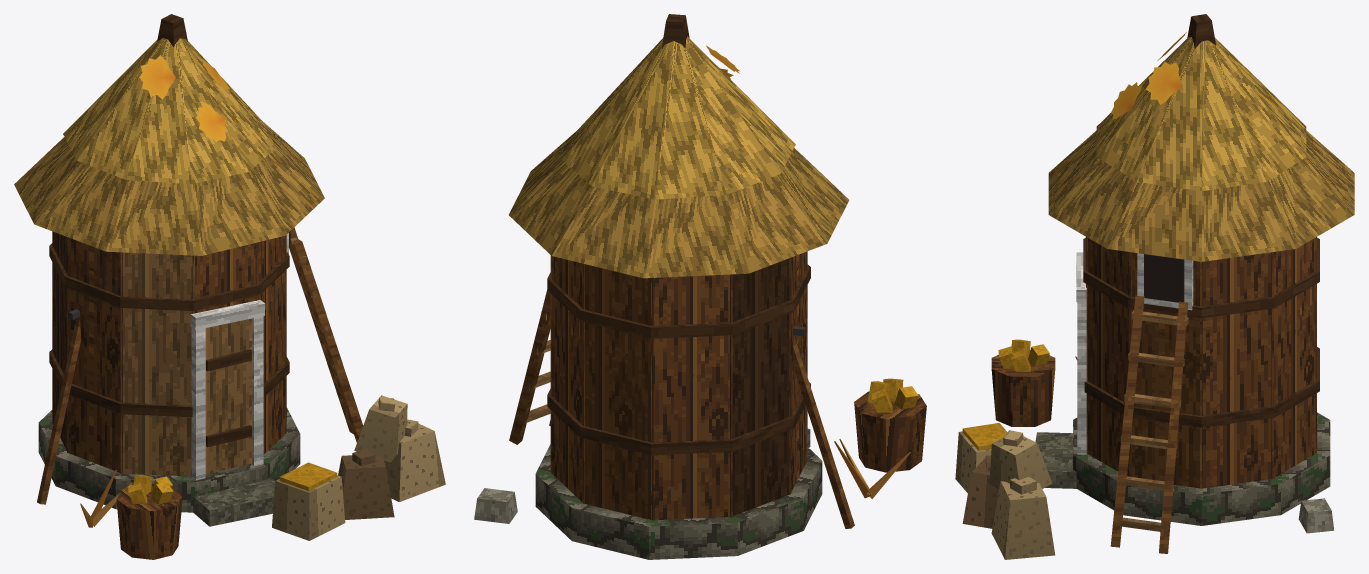
Rendered from granary.glb.
The picture shows the model from 3 angles, left to right: view 1: azimuth 30°, elevation 25°; view 2: azimuth 150°, elevation 25°; view 3: azimuth 270°, elevation 25°; orthographic projection. The views are drawn at different scales.
Visible parts, largest first — view 1: granary; view 2: granary; view 3: granary.
Boxes of the visible parts, box(x1,y1,x2,y2) form: granary: box(14, 14, 445, 559); granary: box(474, 14, 926, 559); granary: box(955, 14, 1354, 559).
Bounding box in the file's own units: 3.43 × 4.37 × 3.47.
Materials: 22 (16 with a texture image).
